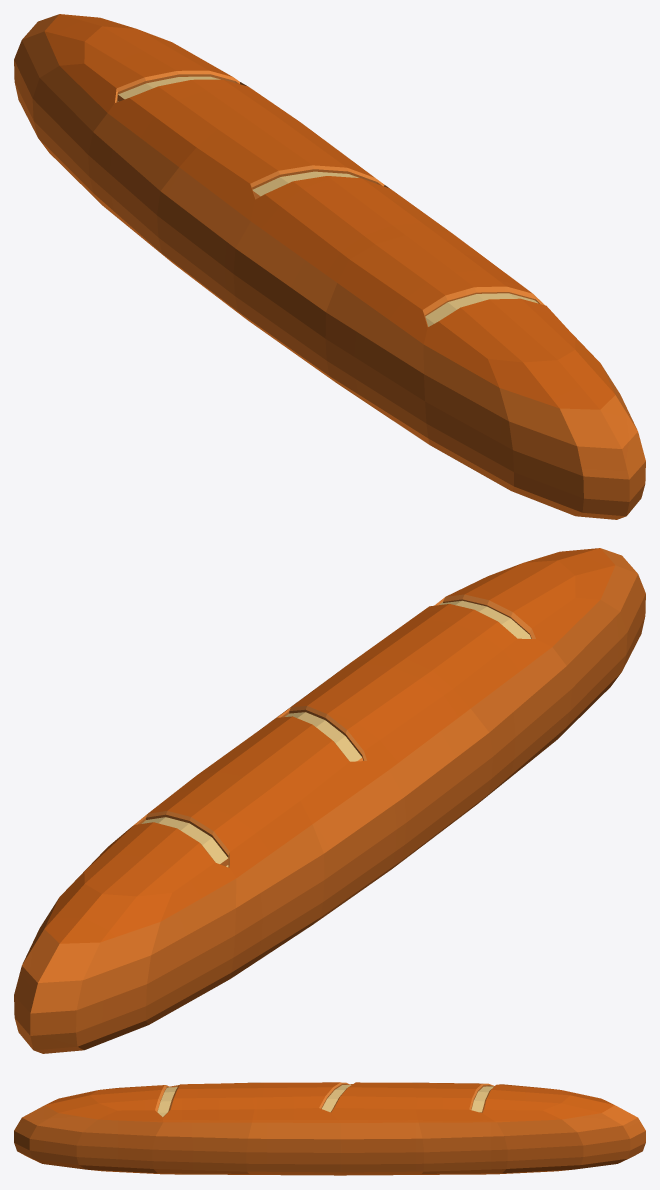
File: Bread_1.fbx
The picture shows the model from 3 angles, top to bottom: view 1: azimuth 30°, elevation 25°; view 2: azimuth 150°, elevation 25°; view 3: azimuth 270°, elevation 25°; orthographic projection. The views are drawn at different scales.
Visible parts, largest first — view 1: Bread 2.001; view 2: Bread 2.001; view 3: Bread 2.001.
Part boxes in pixels (x1=…): Bread 2.001: x1=14, y1=14, x2=645, y2=519; Bread 2.001: x1=14, y1=548, x2=645, y2=1053; Bread 2.001: x1=14, y1=1082, x2=645, y2=1175.
Bounding box in the file's own units: 10 × 7.85 × 60.
